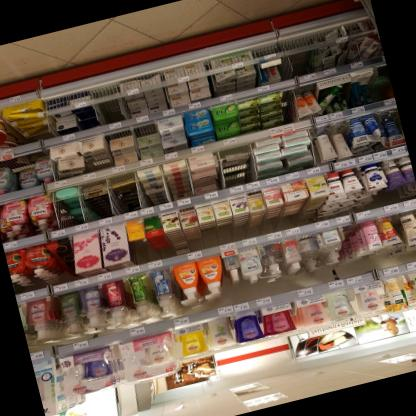empty_space: (94, 82, 122, 125), (284, 35, 312, 73)
